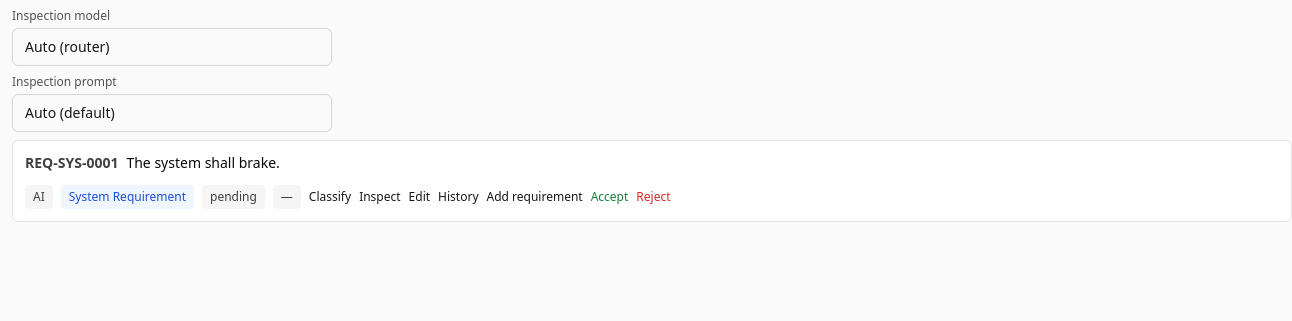
Test: SpecList router mode › omits model_id and shows selected inspection model
Expected: the text "Auto (router)" is shown, [12,28,332,66]
Click the button "Inspect": click(380, 197) [359,189,401,205]
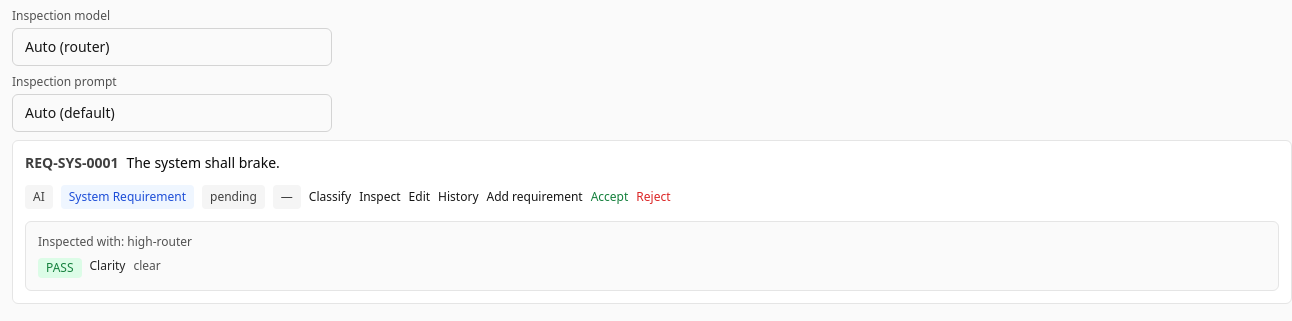
Result: the text "Inspected with: high-router" is shown at [38,233,192,250]
